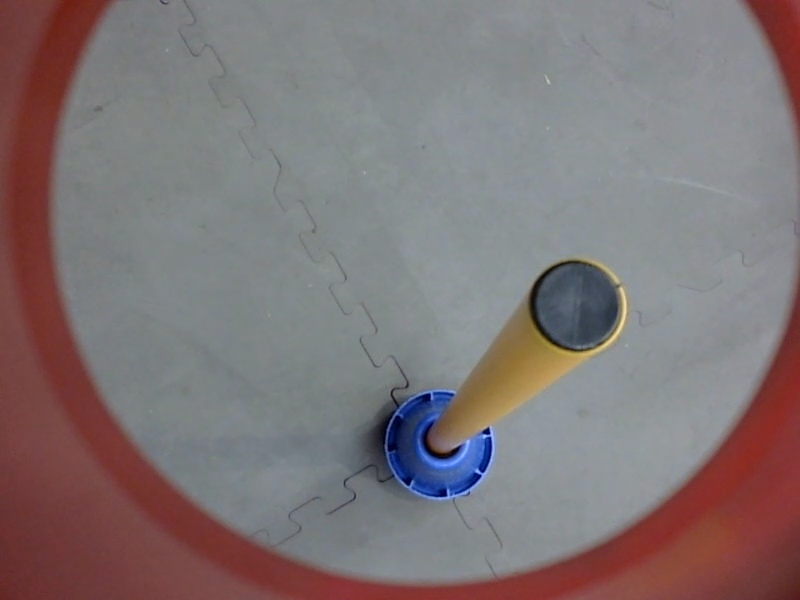tip: (522, 245, 632, 361)
